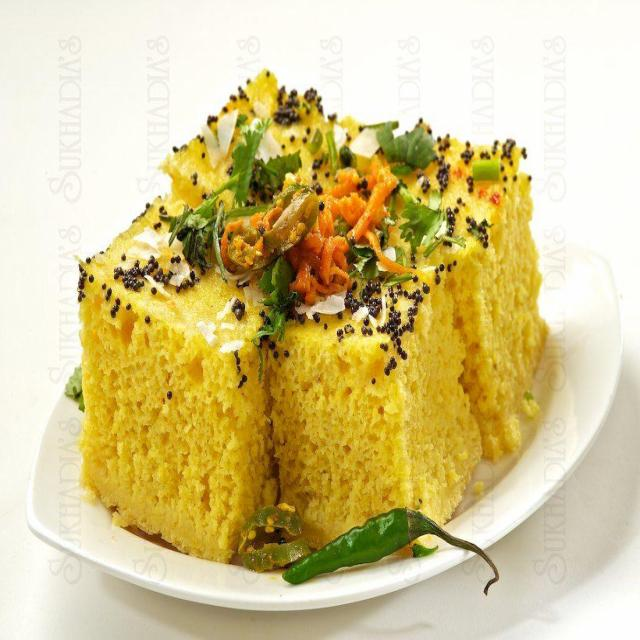dhokla: (58, 81, 568, 528)
